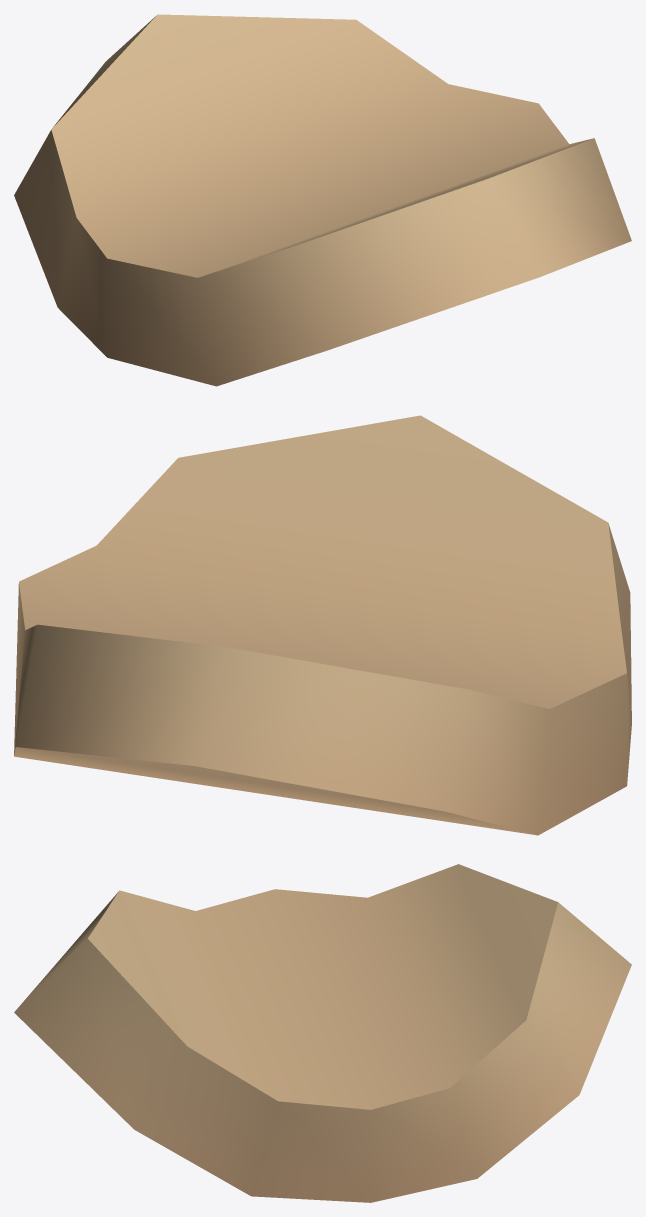
Rendered from (%no-merge) 6.glb.
3 views of the same model, one above another, from view 1: azimuth 30°, elevation 25°; view 2: azimuth 150°, elevation 25°; view 3: azimuth 270°, elevation 25° (orthographic). The views are drawn at different scales.
Visible parts, largest first — view 1: (%no-merge) 6; view 2: (%no-merge) 6; view 3: (%no-merge) 6.
Part boxes in pixels (left/top/right/bottom): (%no-merge) 6: left=14, top=14, right=631, bottom=386; (%no-merge) 6: left=14, top=415, right=631, bottom=835; (%no-merge) 6: left=14, top=864, right=631, bottom=1202.
Bounding box in the file's own units: 0.0531 × 0.0193 × 0.0629.
